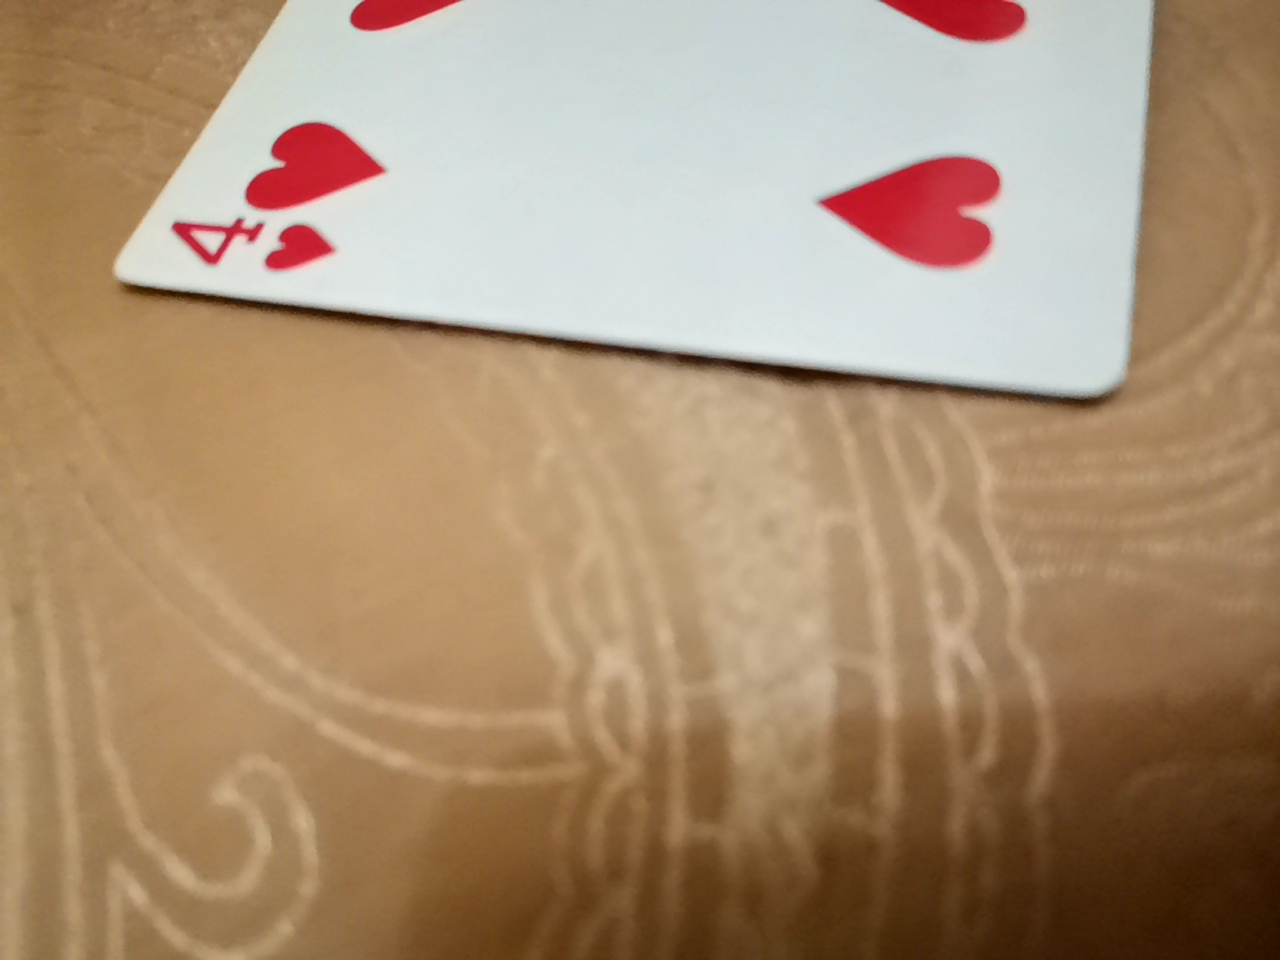hx 4: (163, 4, 1191, 400)
